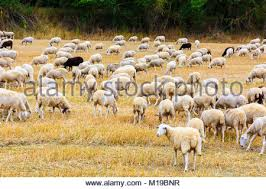sheep: (156, 124, 199, 172), (35, 86, 72, 119), (241, 117, 266, 157), (2, 88, 28, 123), (91, 90, 118, 119), (82, 73, 99, 103), (155, 98, 176, 122), (245, 66, 266, 86), (131, 97, 146, 124), (207, 57, 227, 70), (147, 59, 164, 71), (29, 55, 48, 65), (89, 52, 103, 65), (188, 56, 204, 67), (165, 60, 176, 75), (188, 72, 201, 84), (71, 66, 80, 82), (48, 36, 61, 46), (106, 46, 120, 55), (74, 43, 88, 52), (123, 48, 136, 57), (237, 48, 248, 57)
